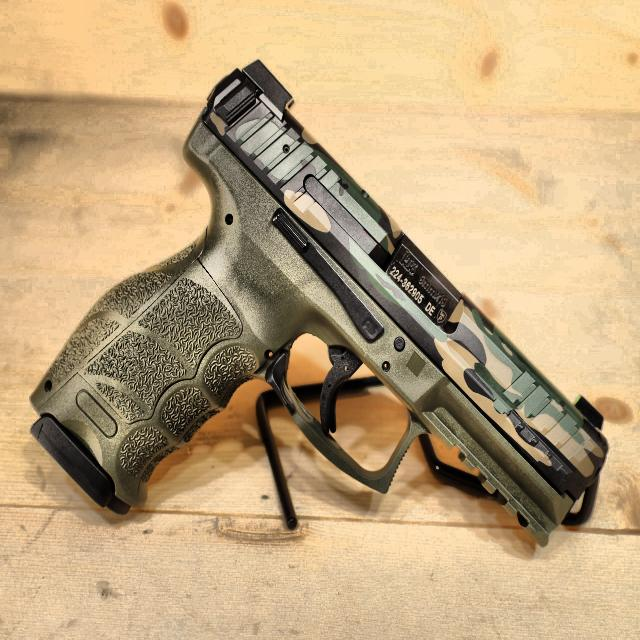HKVP9: (29, 58, 609, 548)
